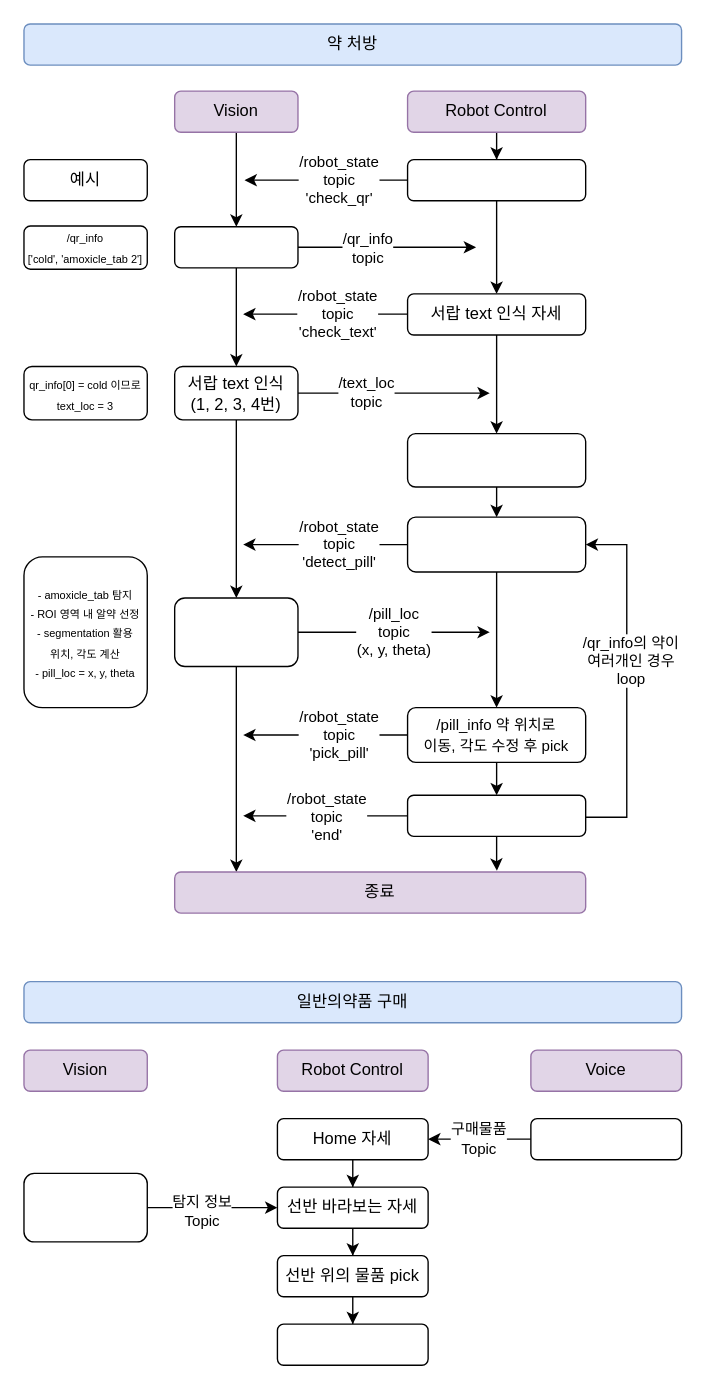
Some shapes in this 706 by 1389 pixel diagram are drawn without their labels. Each missing label, with the centre of its shape:
"/qr_info 정보를 가지고 약 인식, 좌표, 자세 계산" belongs at (x=235, y=632).
"/text_loc 위치의 서랍 열기 (4개 중 하나)" belongs at (x=496, y=459).
"구매할 물품 요청" belongs at (x=606, y=1138).
"물품 전달" belongs at (x=352, y=1344).
"서랍 위에서 약을 탐지하는 자세" belongs at (x=496, y=544).
"약 봉투에 담기" belongs at (x=496, y=815).
"일반의약품 객체 탐지" belongs at (x=85, y=1207).
"처방전 QR 인식 자세" belongs at (x=496, y=179).
"처방전 인식" belongs at (x=235, y=246).
